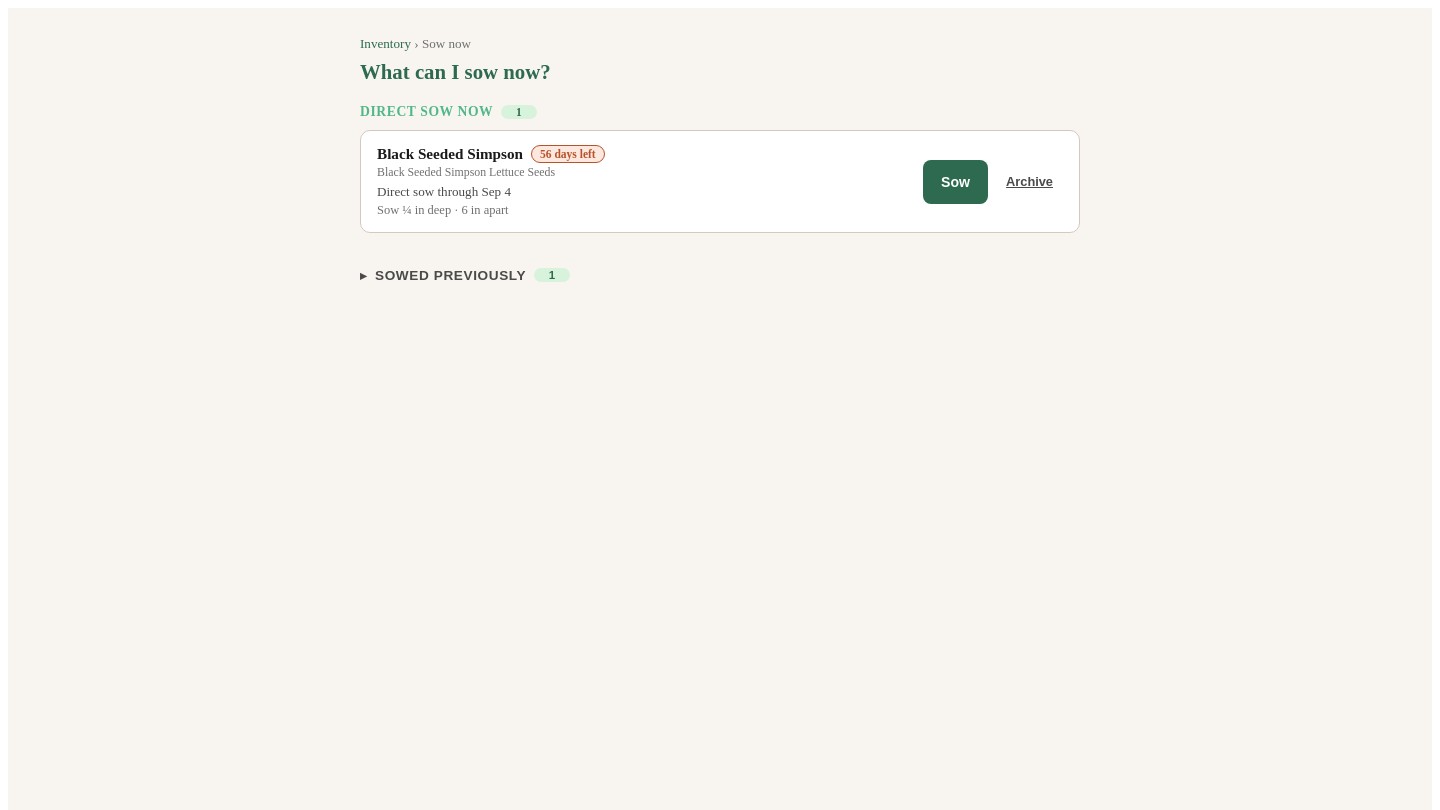
SowNow — sowed previously (zero-count packets) › the section is collapsed by default and expands to the full packet, with its provenance
The width and height of the screenshot is (1440, 810).
expect the text "Spacemaster 80" is not shown: met
Click the button "▸ Sowed previously 1".
click(465, 275)  # box [360,253,570,297]
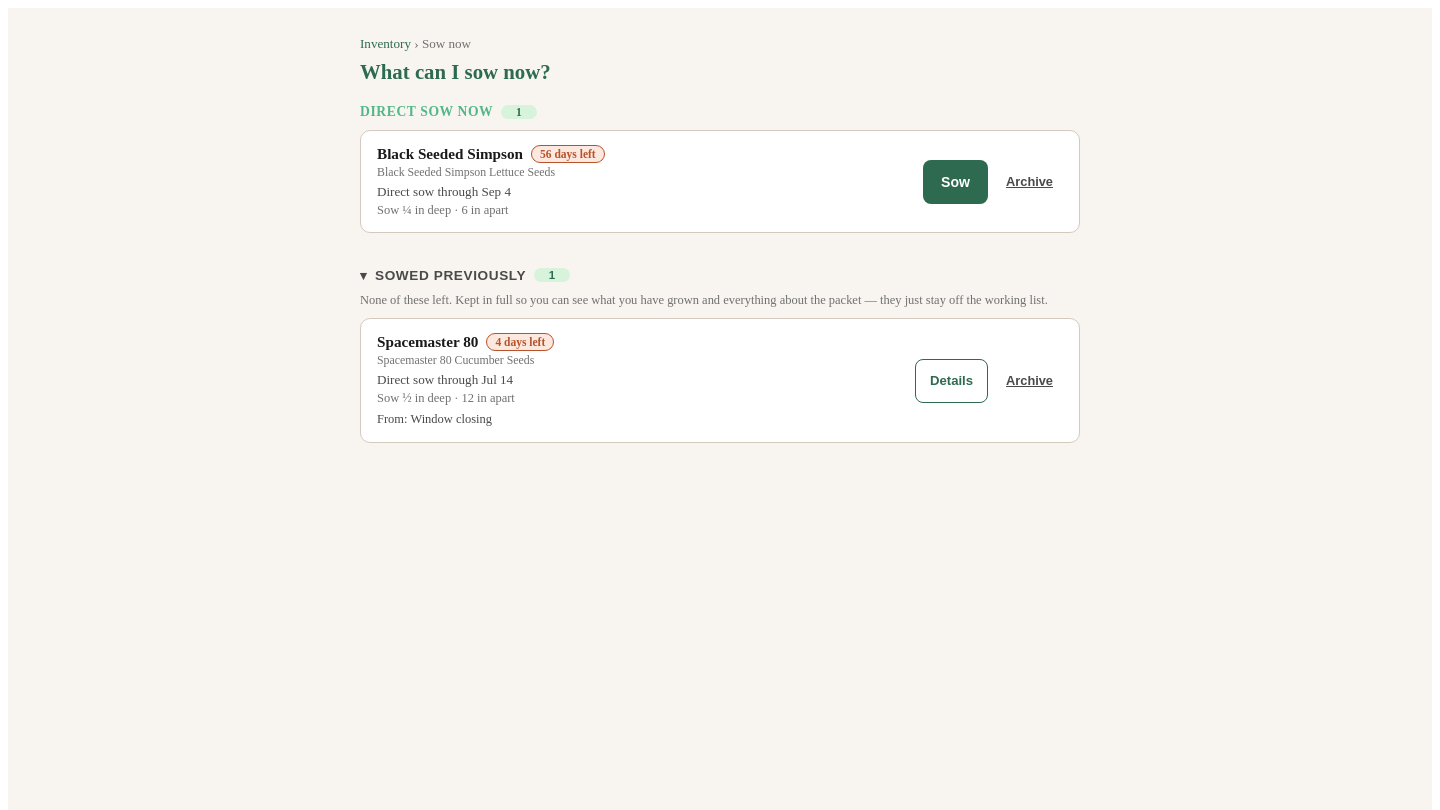
expect the text "Spacemaster 80" is shown: met, box [377,333,478,351]
expect the text "Direct sow through Jul 14" is shown: met, box [377,372,513,387]
expect the text "Sow ½ in deep · 12 in apart" is shown: met, box [377,391,515,405]
